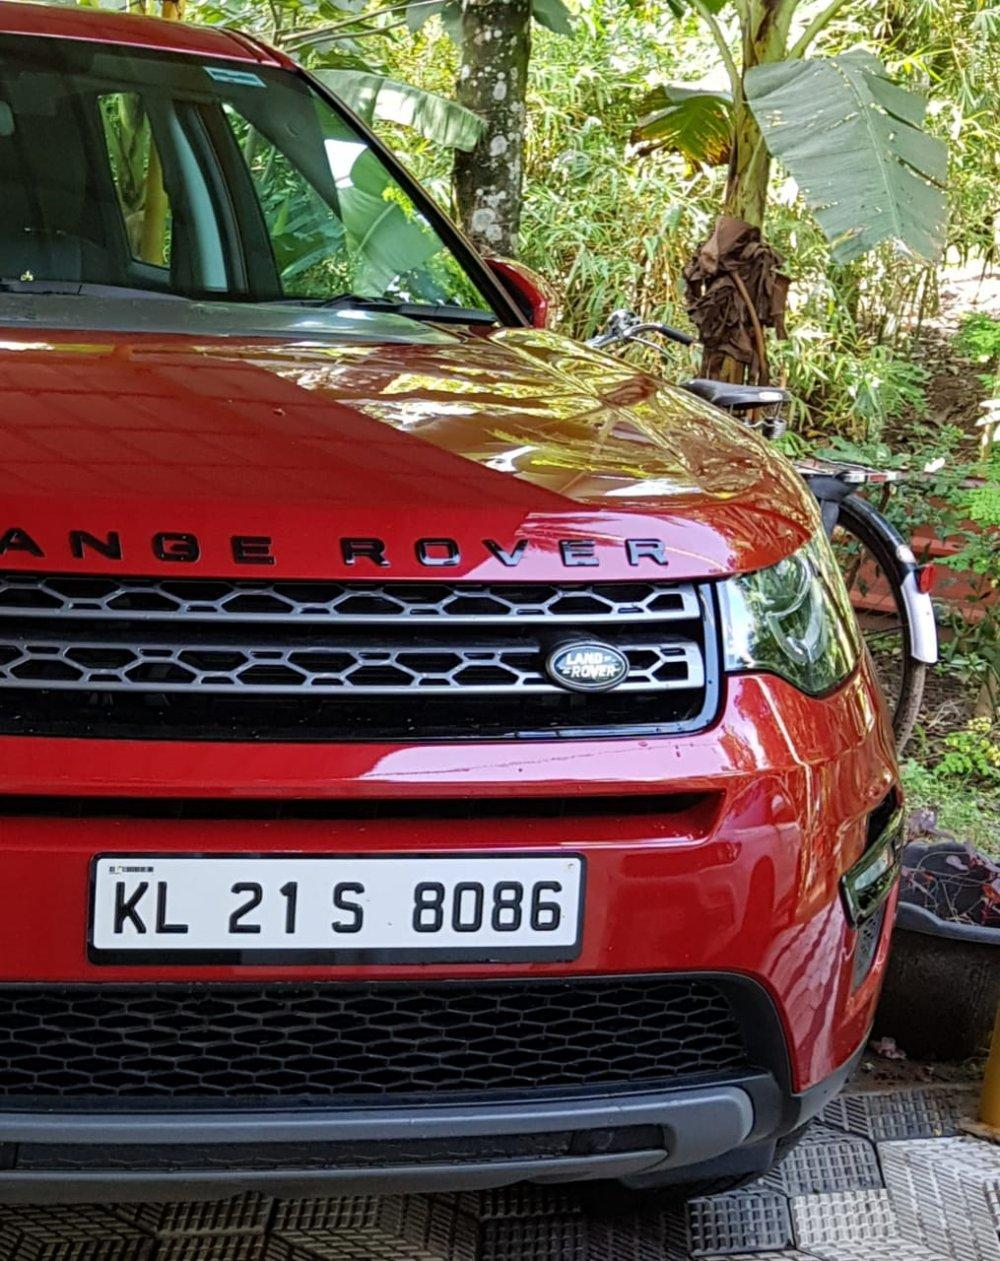Liscence Plate: (87, 856, 604, 953)
